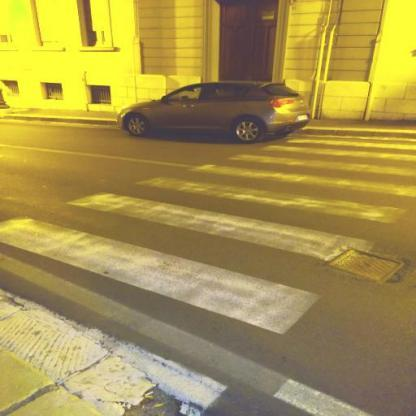crosswalk: (57, 168, 411, 268)
